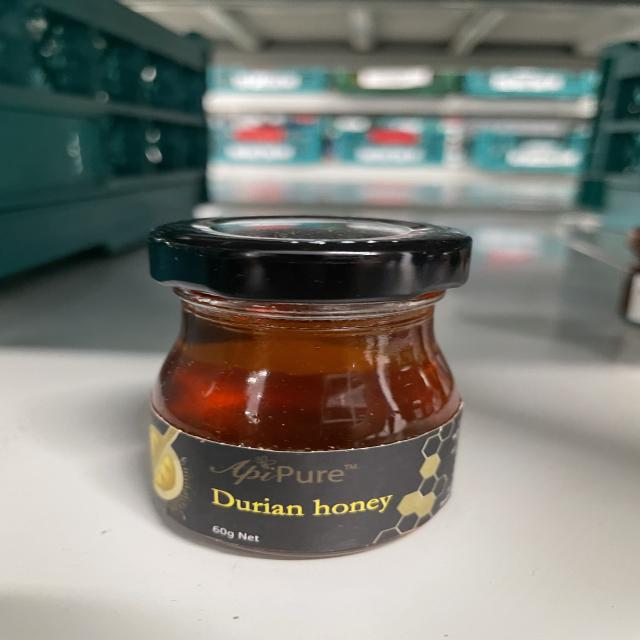object_name: (149, 225, 458, 557)
